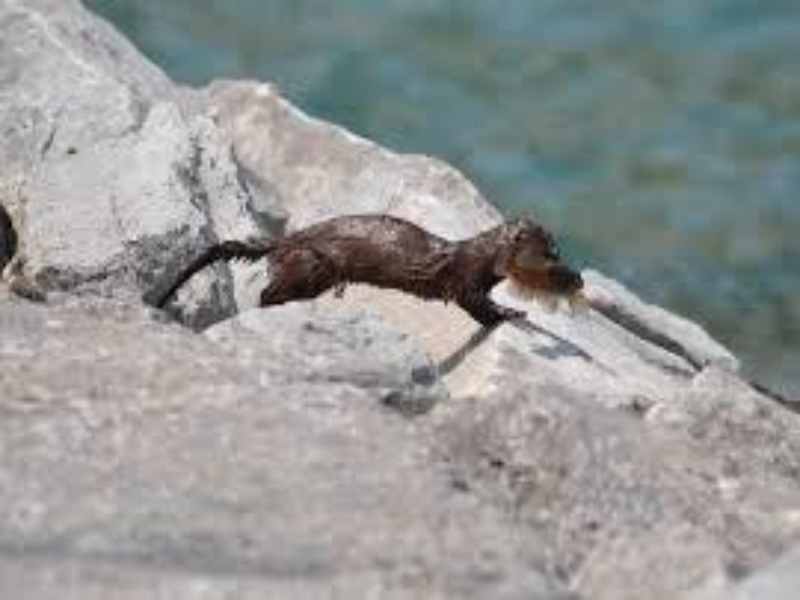minkish: (165, 214, 562, 327)
